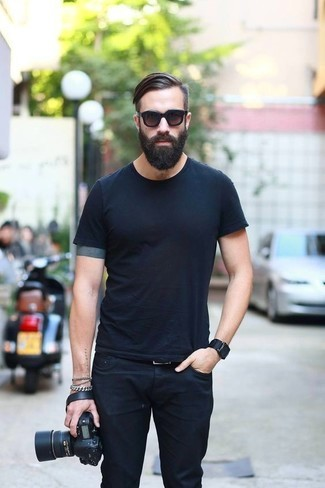sunglasses: (138, 111, 187, 127)
